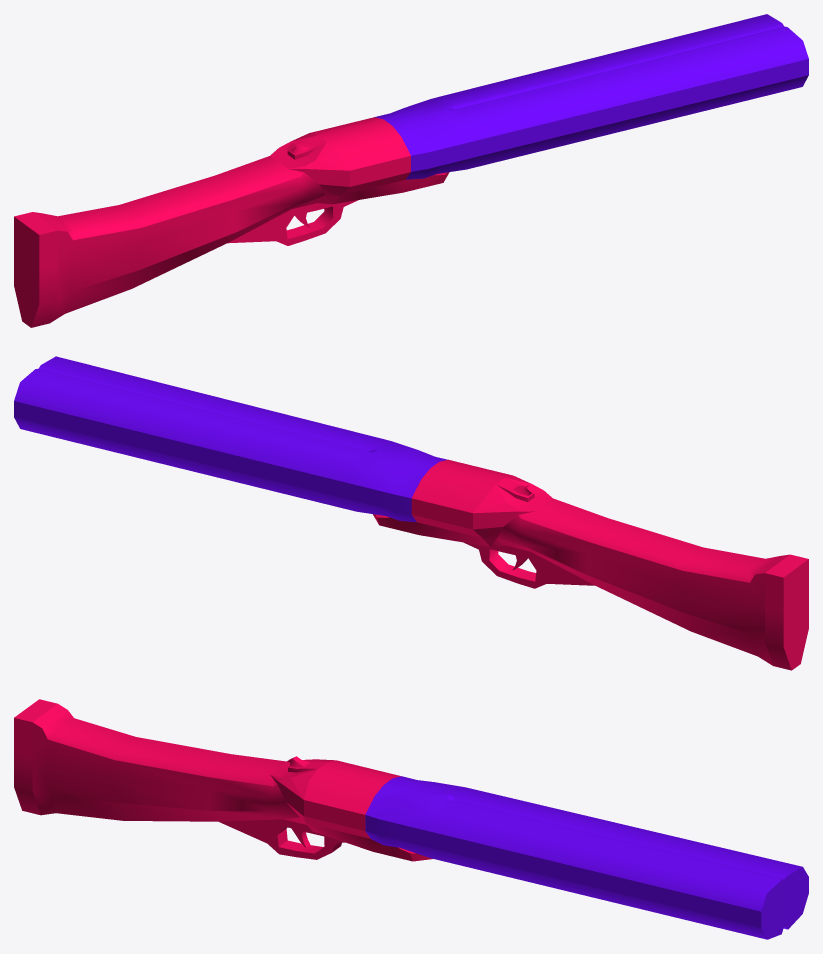
Rendered from MESH_Shotgun.fbx.
3 renders of one model, top to bottom at view 1: azimuth 30°, elevation 25°; view 2: azimuth 150°, elevation 25°; view 3: azimuth 330°, elevation 25°, orthographic.
Visible parts, largest first — view 1: ShotgunBase, ShotgunBarrel; view 2: ShotgunBase, ShotgunBarrel; view 3: ShotgunBarrel, ShotgunBase.
Part boxes in pixels (left/top/right/bottom): ShotgunBase: left=14, top=117, right=449, bottom=327; ShotgunBarrel: left=374, top=14, right=808, bottom=179; ShotgunBase: left=373, top=459, right=808, bottom=670; ShotgunBarrel: left=14, top=356, right=447, bottom=522; ShotgunBarrel: left=365, top=776, right=808, bottom=939; ShotgunBase: left=14, top=699, right=432, bottom=861.
Size of the model in its own units: 16.23 by 2.36 by 1.77.
